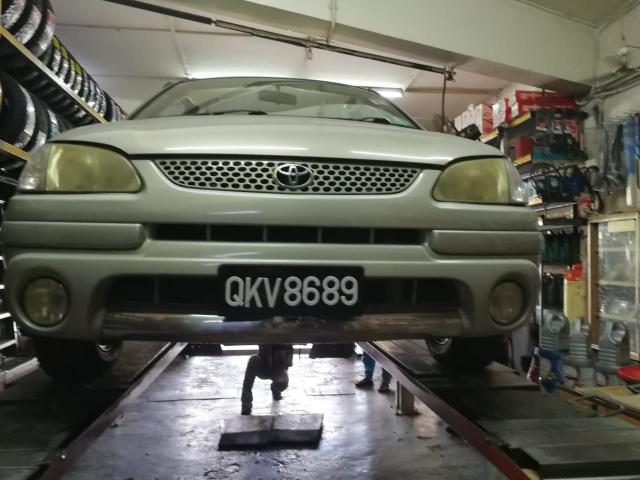License_Plate: (216, 267, 368, 313)
